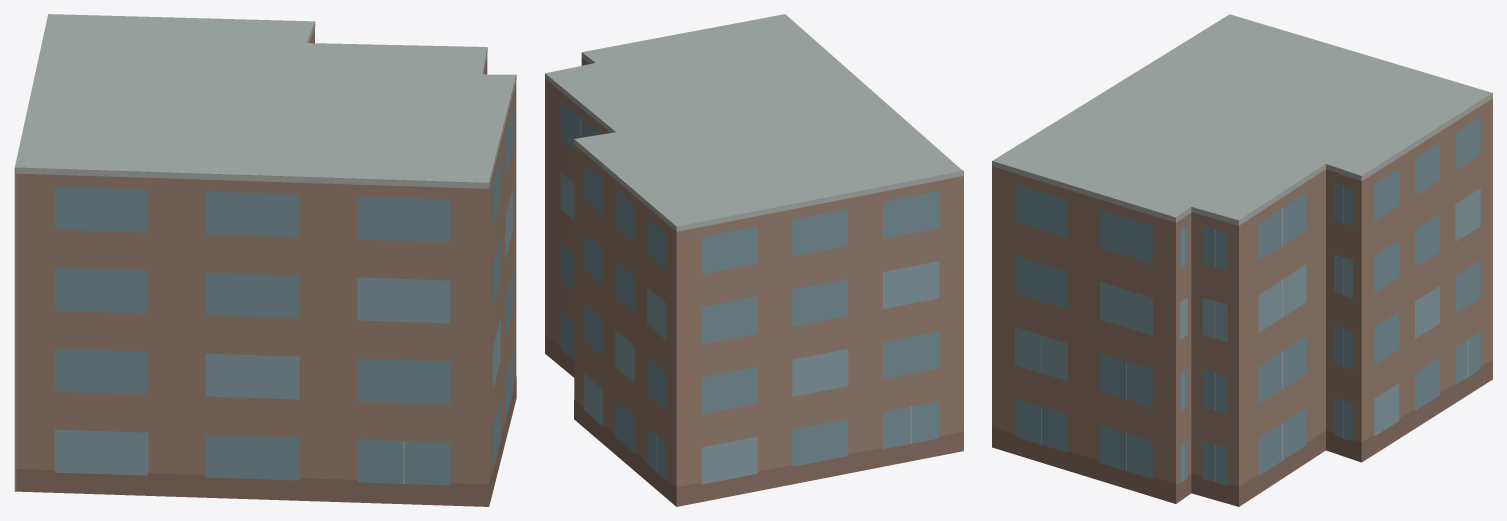
File: survey-upis-32856570.glb
3 renders of one model, left to right at view 1: azimuth 30°, elevation 25°; view 2: azimuth 150°, elevation 25°; view 3: azimuth 270°, elevation 25°, orthographic. The views are drawn at different scales.
Visible parts, largest first — view 1: survey-upis-32856570.tmp; view 2: survey-upis-32856570.tmp; view 3: survey-upis-32856570.tmp.
Part boxes in pixels (x1,y1,x2,y2): survey-upis-32856570.tmp: [14, 14, 516, 506]; survey-upis-32856570.tmp: [545, 14, 963, 506]; survey-upis-32856570.tmp: [992, 14, 1492, 506].
Bounding box in the file's own units: 20.17 × 13.05 × 20.68.
